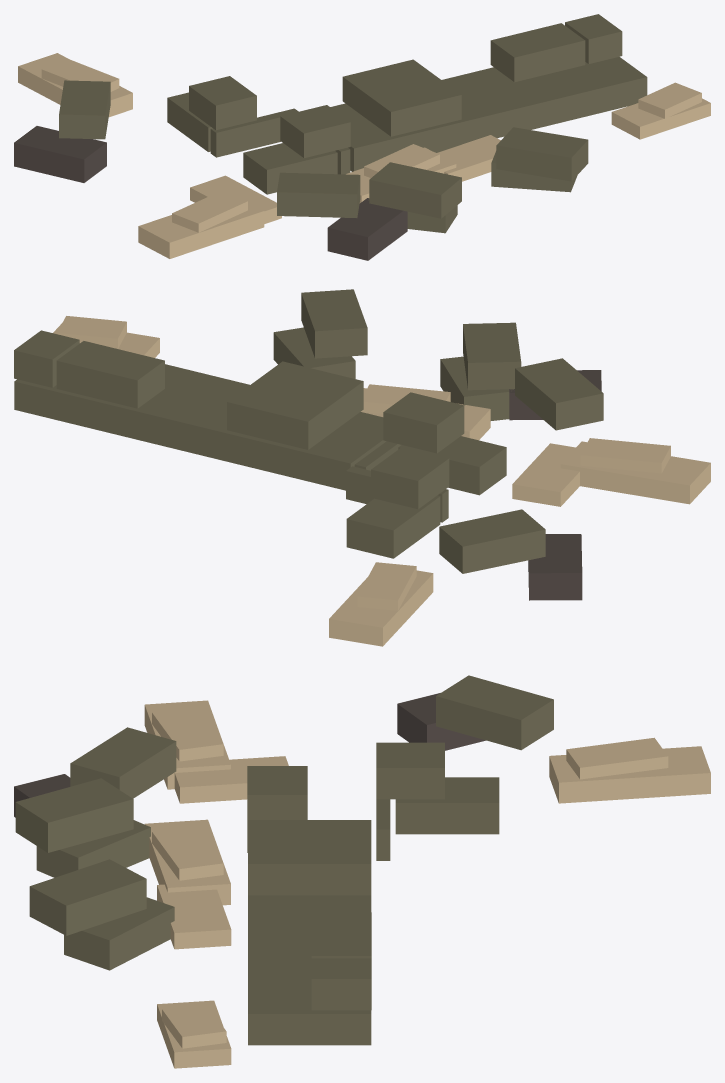
File: SM_SacosRemate_v0_Recto_e2_MuyDanado_LOD1.fbx
The picture shows the model from 3 angles, top to bottom: view 1: azimuth 30°, elevation 25°; view 2: azimuth 150°, elevation 25°; view 3: azimuth 270°, elevation 25°; orthographic projection. The views are drawn at different scales.
Parts seen in each view (by area): view 1: SM_sacos_piezas_v22_LOD1; view 2: SM_sacos_piezas_v22_LOD1; view 3: SM_sacos_piezas_v22_LOD1.
Boxes of the visible parts, <box> form: SM_sacos_piezas_v22_LOD1: <box>14,14,710,260</box>; SM_sacos_piezas_v22_LOD1: <box>14,289,710,646</box>; SM_sacos_piezas_v22_LOD1: <box>14,675,710,1068</box>.
Bounding box in the file's own units: 6.58 × 0.585 × 5.44.
